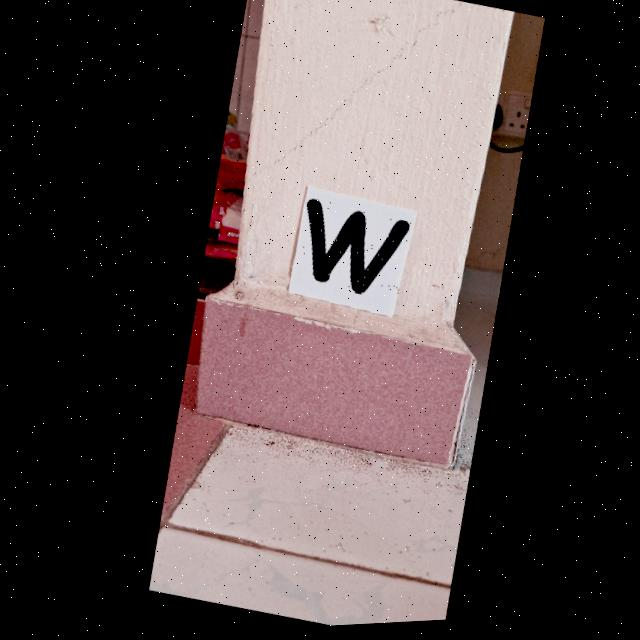W: (301, 202, 405, 297)
